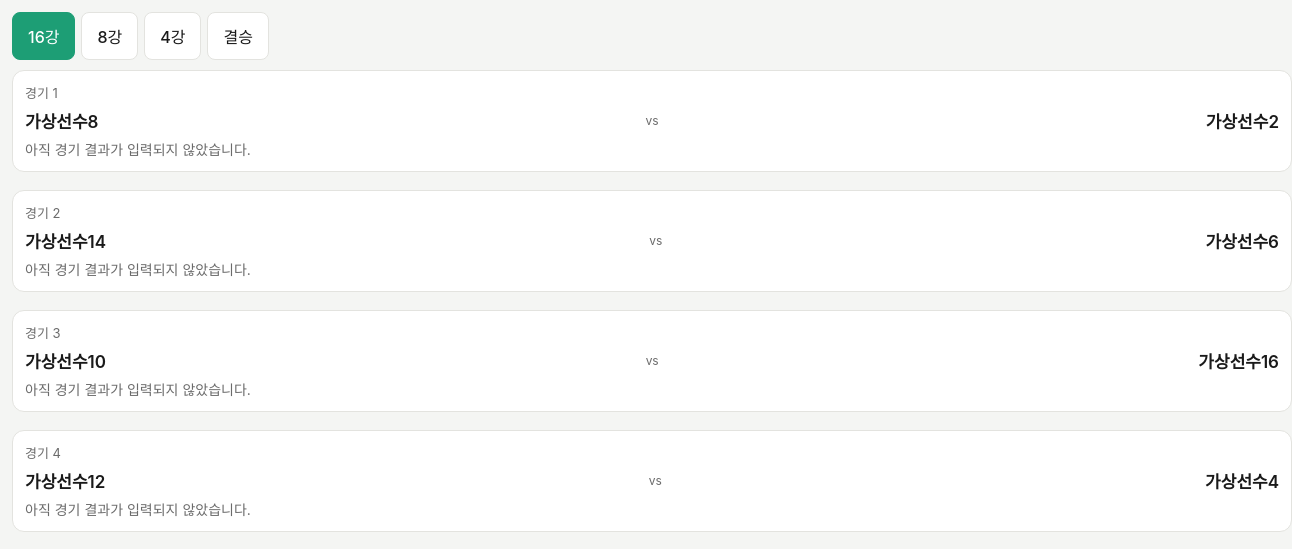
Test: 합류 예약 자리 표시 (화면 컴포넌트) › 합류자가 정해지면 안내 문구 대신 선수 이름이 보인다
Click the button "8강".
click(110, 36)  # box [82,12,138,60]
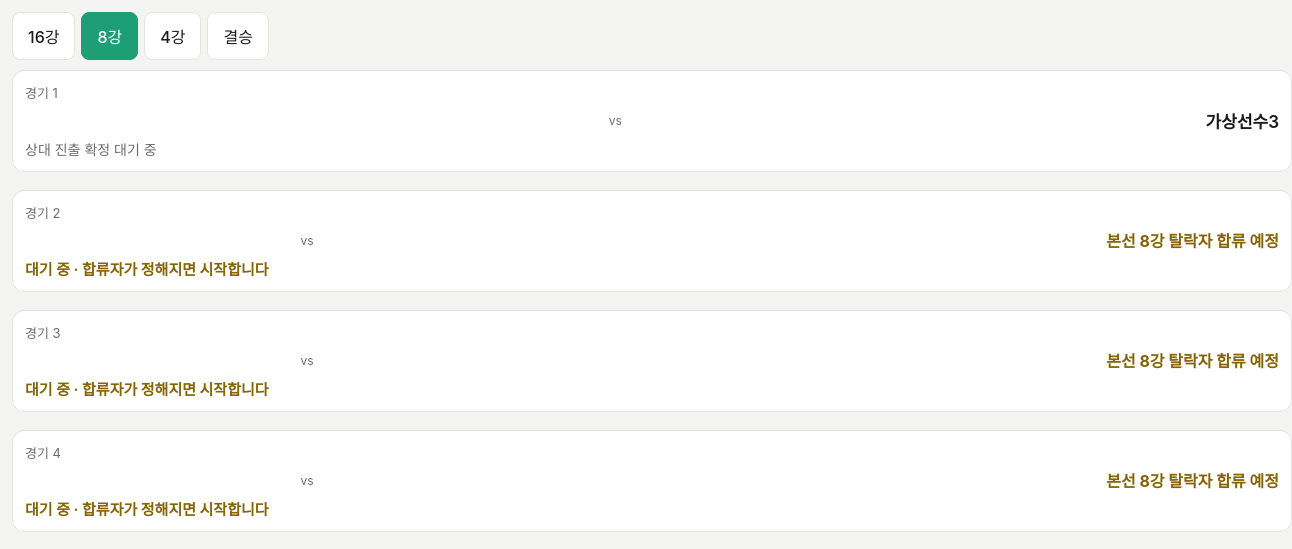
Check: the text "본선 8강 탈락자 합류 예정" is shown 3 times, box [1106,231,1279,251]; [1106,351,1279,371]; [1106,471,1279,491]
Check: the text "가상선수3" is shown, box [1206,108,1279,133]
